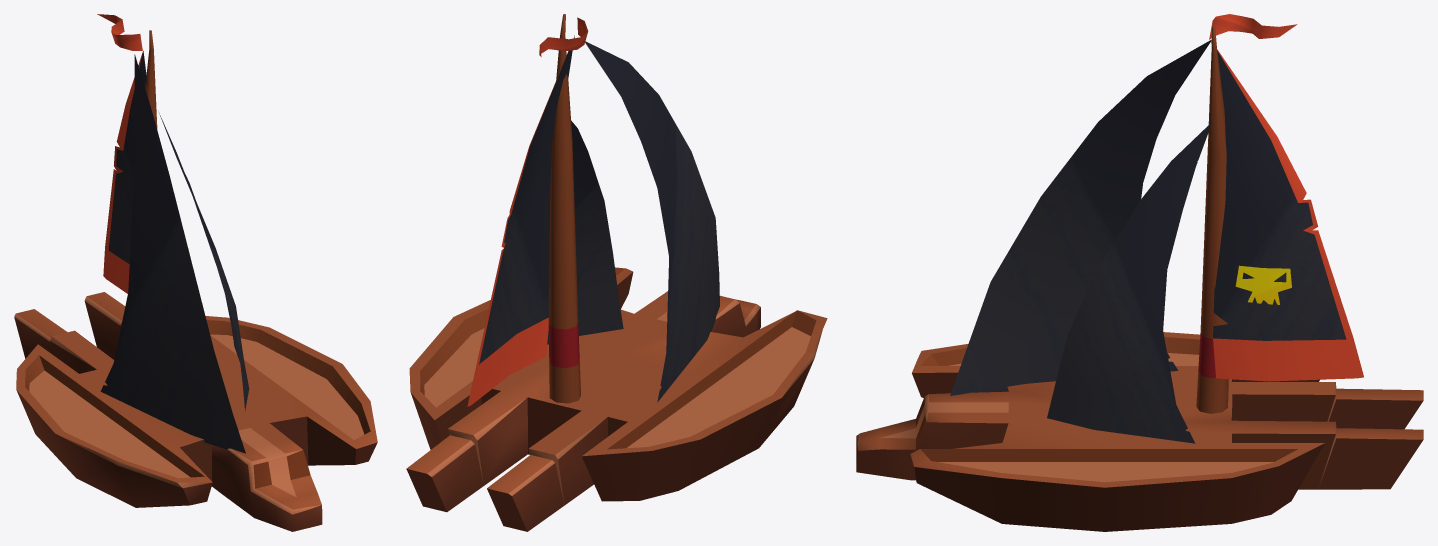
Rendered from Ship_Canoe.fbx.
3 renders of one model, left to right at view 1: azimuth 30°, elevation 25°; view 2: azimuth 150°, elevation 25°; view 3: azimuth 270°, elevation 25°, orthographic. The views are drawn at different scales.
Parts seen in each view (by area): view 1: Color_09, Color_Cloth_01; view 2: Color_09, Color_Cloth_01; view 3: Color_Cloth_01, Color_09.
Boxes of the visible parts, x1=… form: Color_09: x1=14, y1=30, x2=377, y2=531; Color_Cloth_01: x1=97, y1=14, x2=249, y2=453; Color_09: x1=406, y1=14, x2=827, y2=531; Color_Cloth_01: x1=467, y1=17, x2=719, y2=406; Color_Cloth_01: x1=950, y1=14, x2=1363, y2=443; Color_09: x1=856, y1=26, x2=1423, y2=531.
Size of the model in its own units: 15.42 by 19.7 by 23.13.
